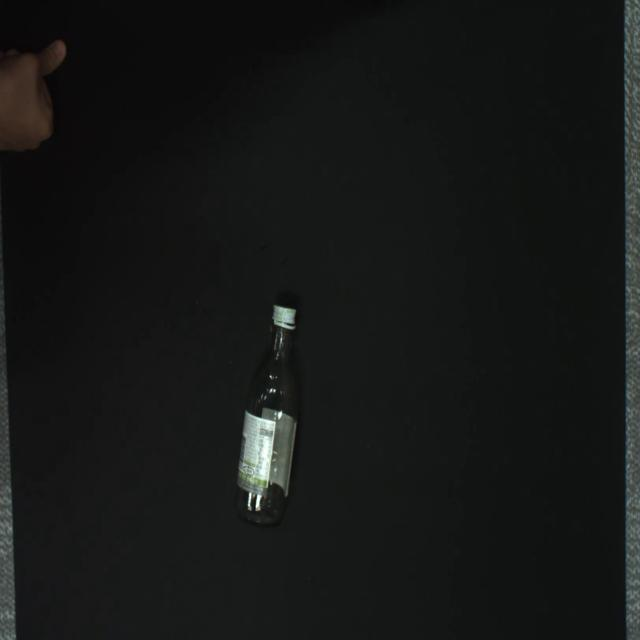soju-bottle: (234, 303, 300, 529)
